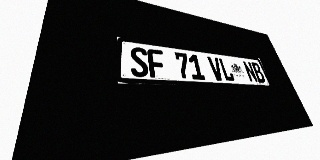1: (187, 54, 205, 80)
7: (173, 52, 192, 79)
B: (250, 62, 267, 83)
F: (147, 48, 167, 78)
L: (218, 58, 235, 81)
N: (242, 61, 259, 82)
S: (130, 46, 150, 77)
V: (207, 56, 225, 81)
